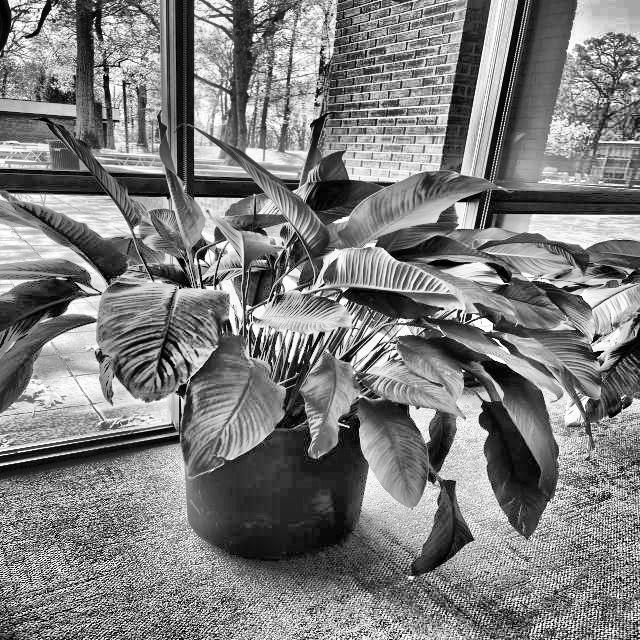plants: (60, 79, 596, 586)
